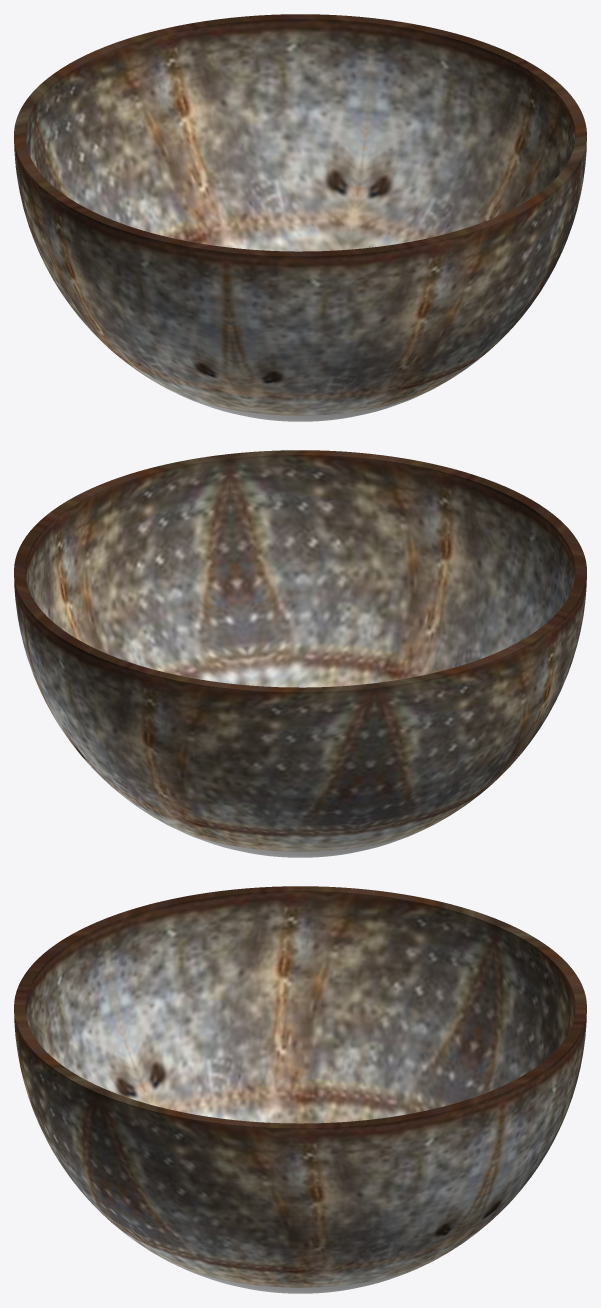
3 views of the same model, one above another, from view 1: azimuth 30°, elevation 25°; view 2: azimuth 150°, elevation 25°; view 3: azimuth 270°, elevation 25° (orthographic).
Parts seen in each view (by area): view 1: VIFS037, VIFS038, VIFS032, VIFS039, VIFS046, VIFS045, VIFS035, VIFS040, VIFS047, VIFS041, VIFS043, VIFS033 (+3 smaller); view 2: VIFS045, VIFS041, VIFS039, VIFS032, VIFS033, VIFS037, VIFS031, VIFS042, VIFS034, VIFS038, VIFS036, VIFS046 (+3 smaller); view 3: VIFS033, VIFS046, VIFS041, VIFS038, VIFS032, VIFS039, VIFS036, VIFS043, VIFS037, VIFS045, VIFS040, VIFS042 (+5 smaller).
Part boxes in pixels (x1,y1,x2,y2): VIFS037: [157, 14, 374, 178]; VIFS038: [361, 18, 548, 214]; VIFS032: [226, 236, 443, 369]; VIFS039: [24, 30, 182, 213]; VIFS046: [52, 193, 235, 366]; VIFS045: [424, 165, 577, 355]; VIFS035: [183, 166, 361, 251]; VIFS040: [347, 169, 501, 249]; VIFS047: [236, 356, 424, 415]; VIFS041: [505, 75, 586, 276]; VIFS043: [86, 318, 255, 412]; VIFS033: [14, 104, 84, 316]; VIFS045: [226, 450, 443, 614]; VIFS041: [52, 454, 239, 650]; VIFS039: [157, 672, 374, 805]; VIFS032: [418, 466, 576, 649]; VIFS033: [365, 629, 548, 802]; VIFS037: [23, 601, 176, 791]; VIFS031: [239, 602, 417, 687]; VIFS042: [99, 605, 253, 685]; VIFS034: [176, 792, 364, 851]; VIFS038: [14, 511, 95, 712]; VIFS036: [345, 754, 514, 848]; VIFS046: [516, 540, 586, 752]; VIFS033: [300, 886, 502, 1066]; VIFS046: [98, 886, 300, 1066]; VIFS041: [98, 1089, 300, 1241]; VIFS038: [300, 1089, 502, 1241]; VIFS032: [14, 922, 134, 1085]; VIFS039: [466, 922, 586, 1085]; VIFS036: [300, 1038, 466, 1123]; VIFS043: [134, 1038, 300, 1123]; VIFS037: [476, 1007, 586, 1210]; VIFS045: [14, 1007, 124, 1210]; VIFS040: [300, 1211, 475, 1287]; VIFS042: [125, 1211, 300, 1287].
Bounding box in the file's own units: 10 × 5 × 10.
